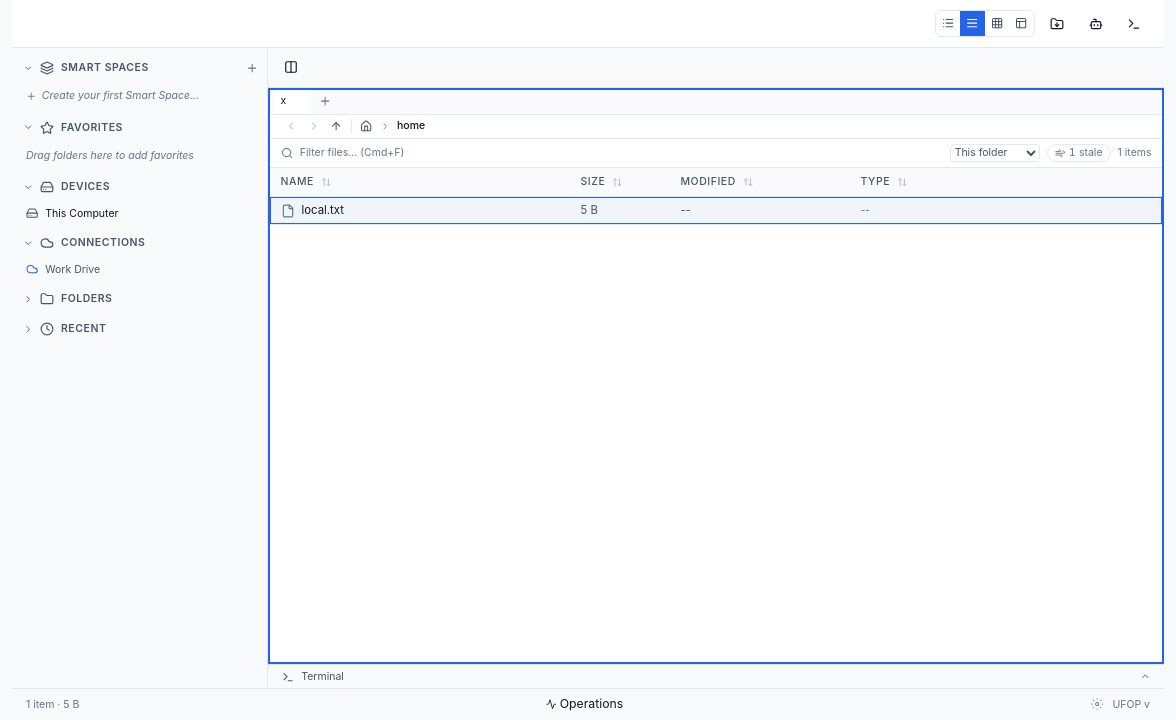
Test: connections in the panes › opens a sidebar connection in the active pane, listed through the connector
Click the button "Work Drive": x=140, y=269 [12, 256, 267, 283]
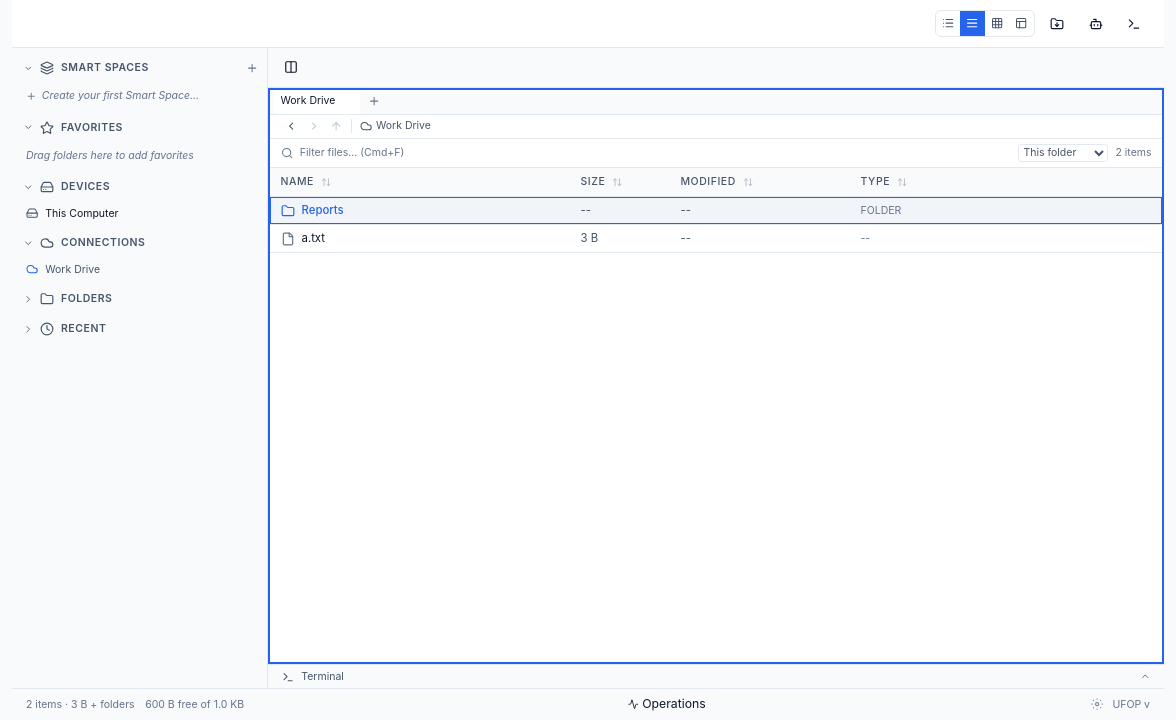
Result: the text "Reports" is shown at [302, 202, 344, 220]
Result: the text with test id "breadcrumb-connection" reads "Work Drive" at [376, 119, 431, 132]
Result: the text with test id "status-bar-quota" reads "600 B free of 1.0 KB" at [145, 698, 244, 711]
